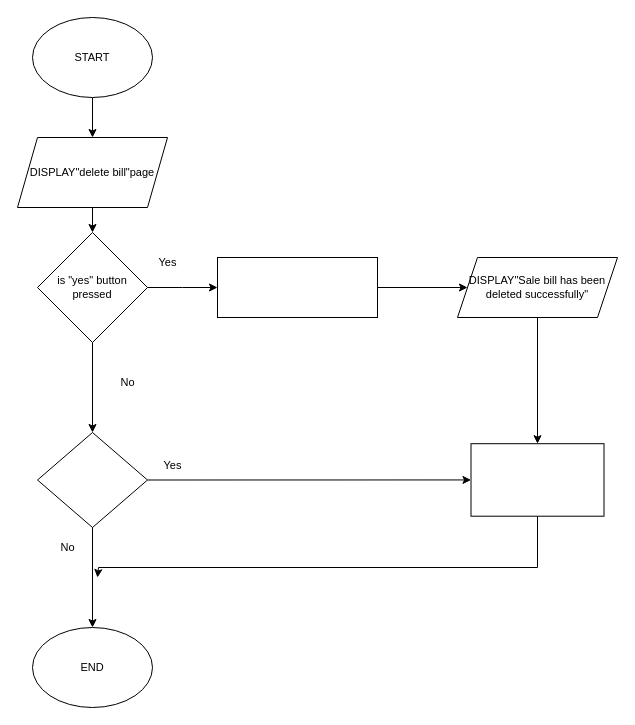
This 635x725 diagram has some shape labels left out. The centre of each missing label's shape, as x and y in pixels:
DELETE sales bill from database: pixel 297 287
Is "cancel" button pressed?: pixel 92 480
REDIRECT to "Sales List" Page: pixel 537 479
